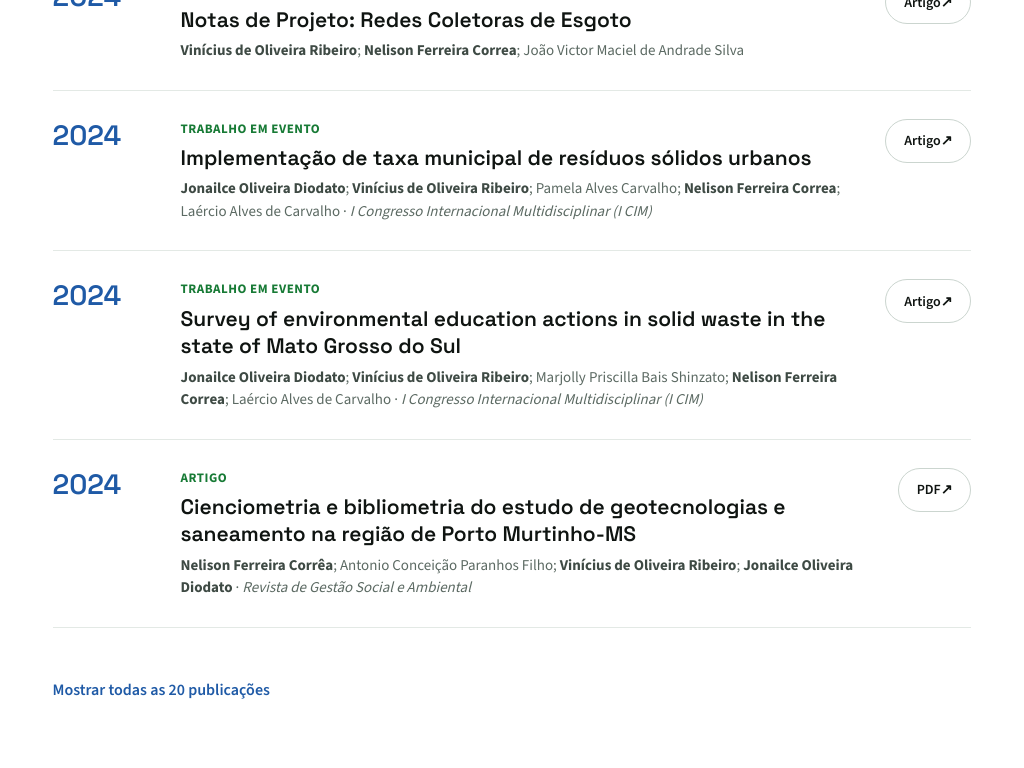
it: Produção científica (SPEC-006) › mostra as 5 mais recentes e expande para todas no próprio lugar
This screenshot has width=1024, height=768.
(page scrolled)
Click the button "Mostrar todas as 20 publicações".
click(161, 690)  # box [52,668,270,712]
(page scrolled)
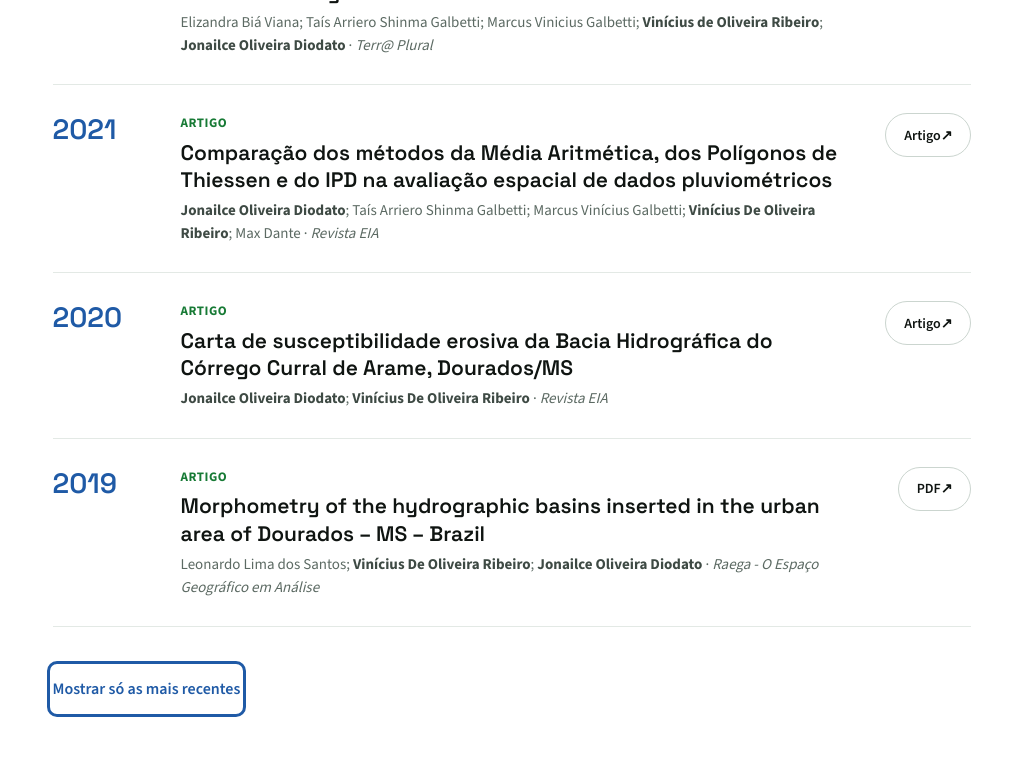
Check: the button "Mostrar só as mais recentes" is expanded, box [52,667,240,711]
